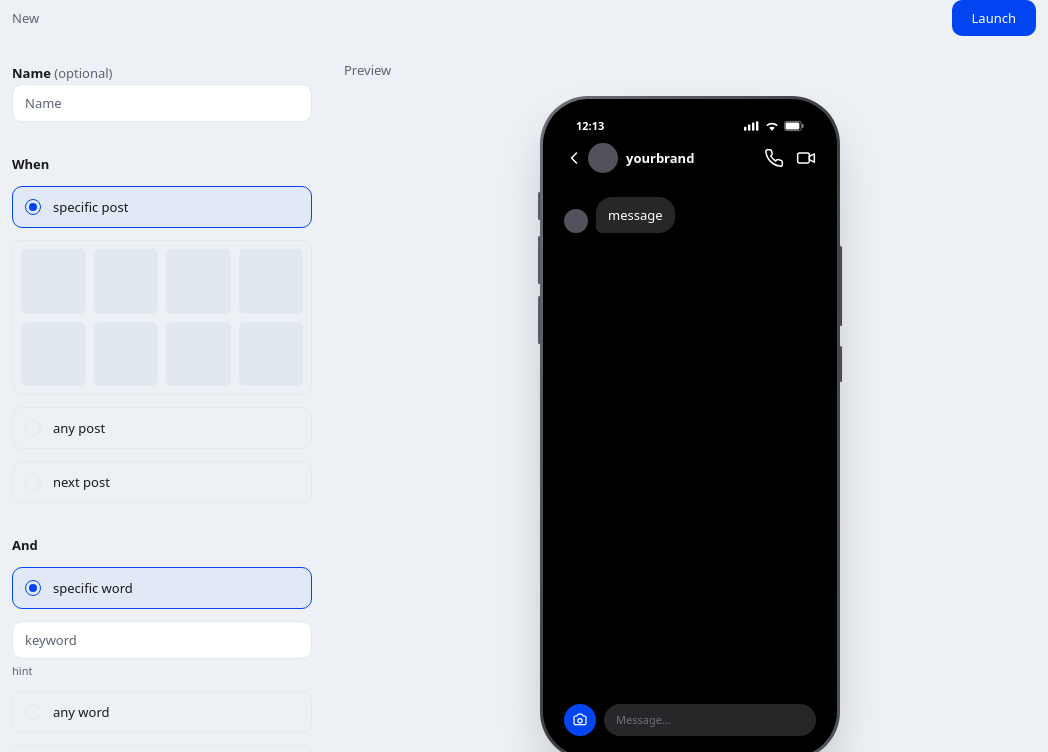
it: CampaignBuilder save payload › shows validation error when no post selected in specific mode
The image size is (1048, 752).
// Don't pick a post, but enter keyword and DM
Type "price" into the field with placeholder "keyword" at (162,640), box [12,621,312,659]
(page scrolled)
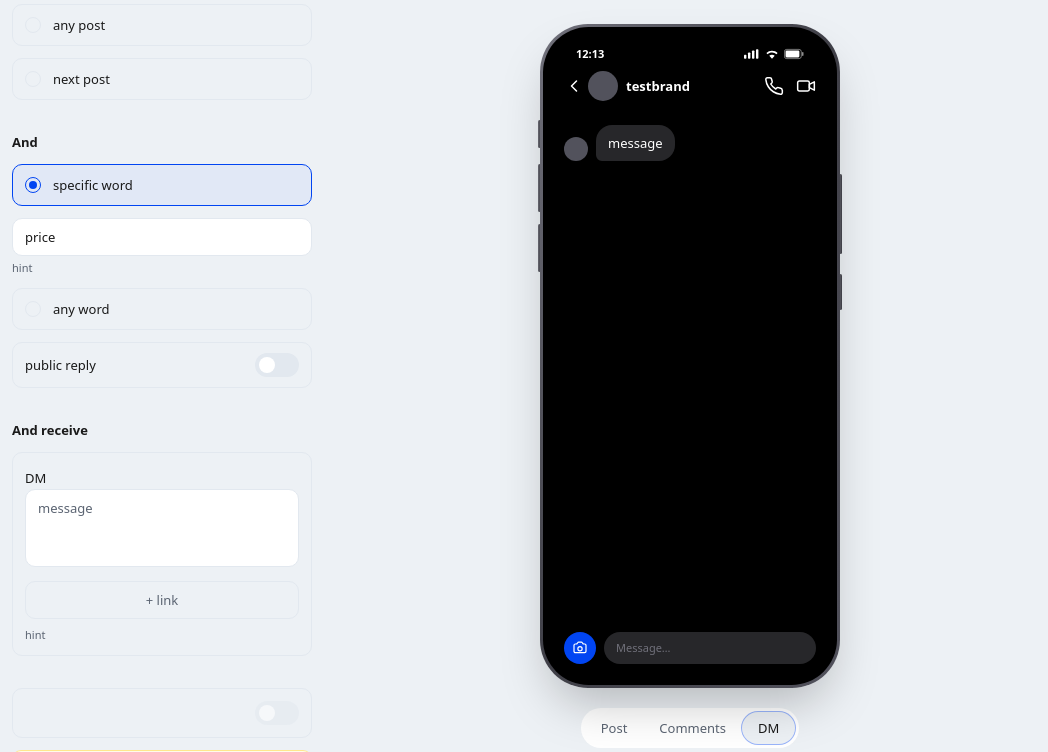
Type "DM" into the text box with placeholder "message" at (162,528), box [25,489,299,567]
(page scrolled)
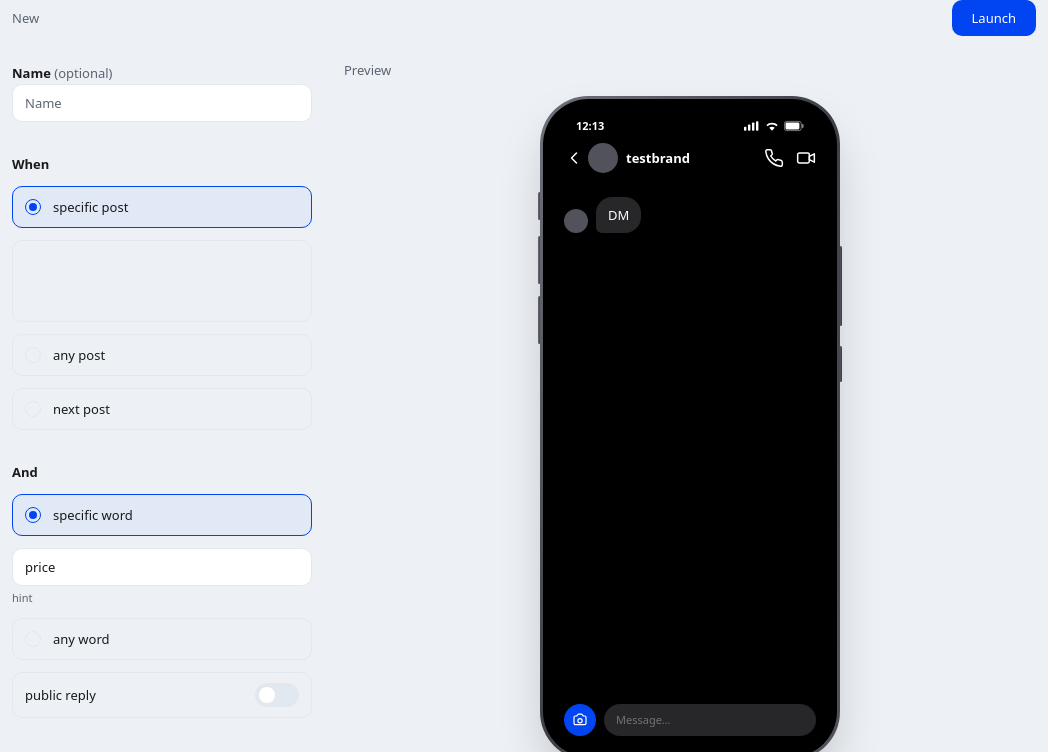
Click the button "Launch" at (994,18), box [952,0,1036,36]
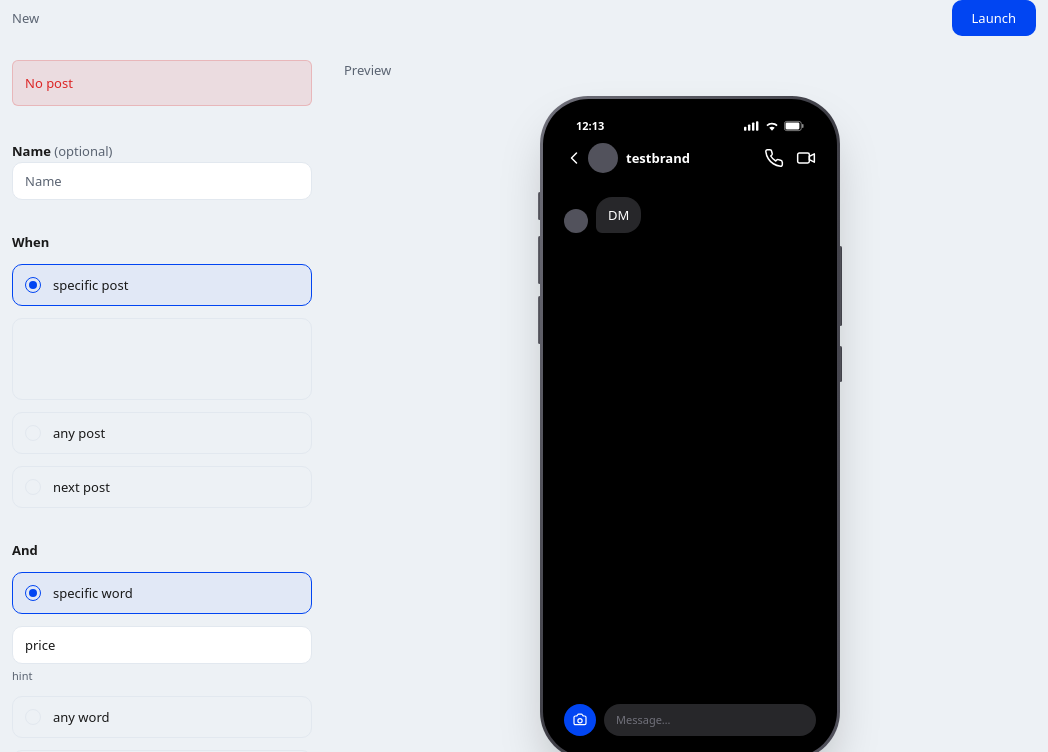
Now the text "No post" is shown, box [12,60,312,106]
